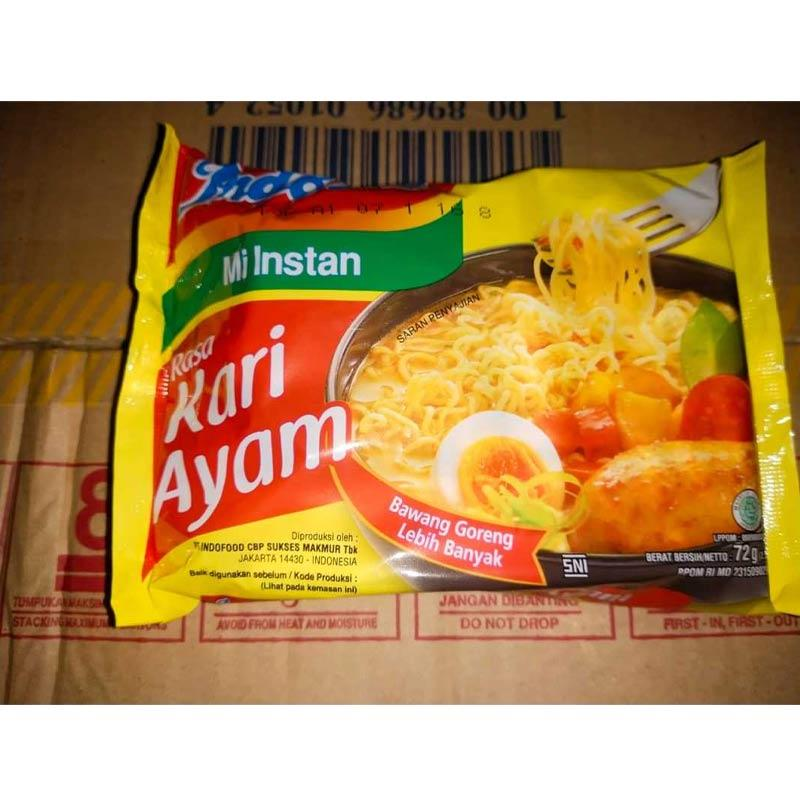indomie kari ayam: (130, 109, 784, 628)
